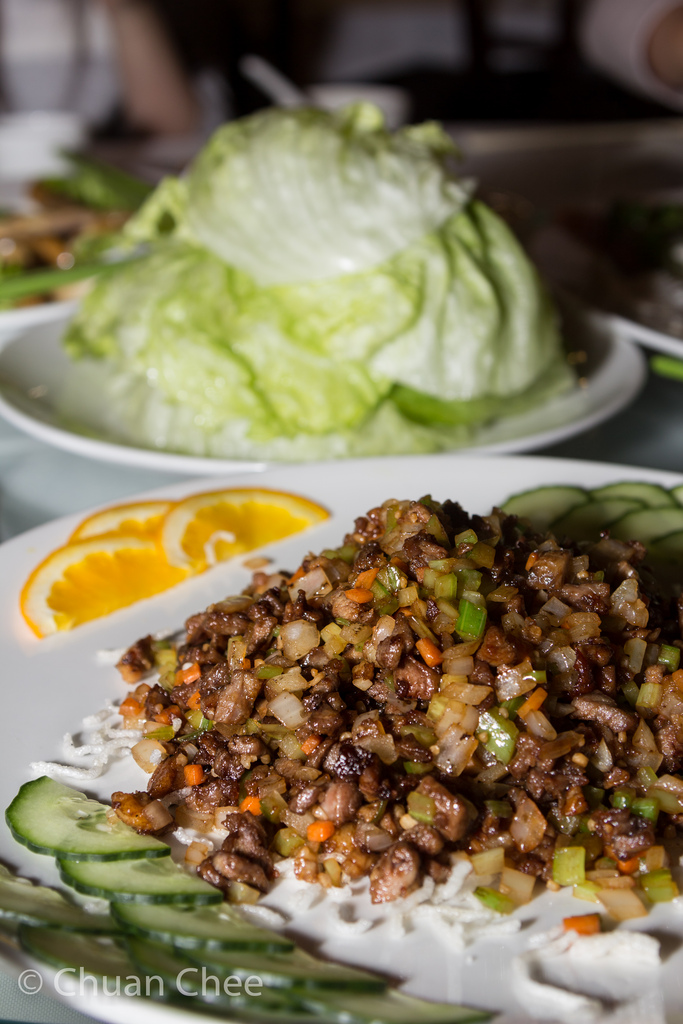chopped lettuce: (138, 112, 552, 436)
